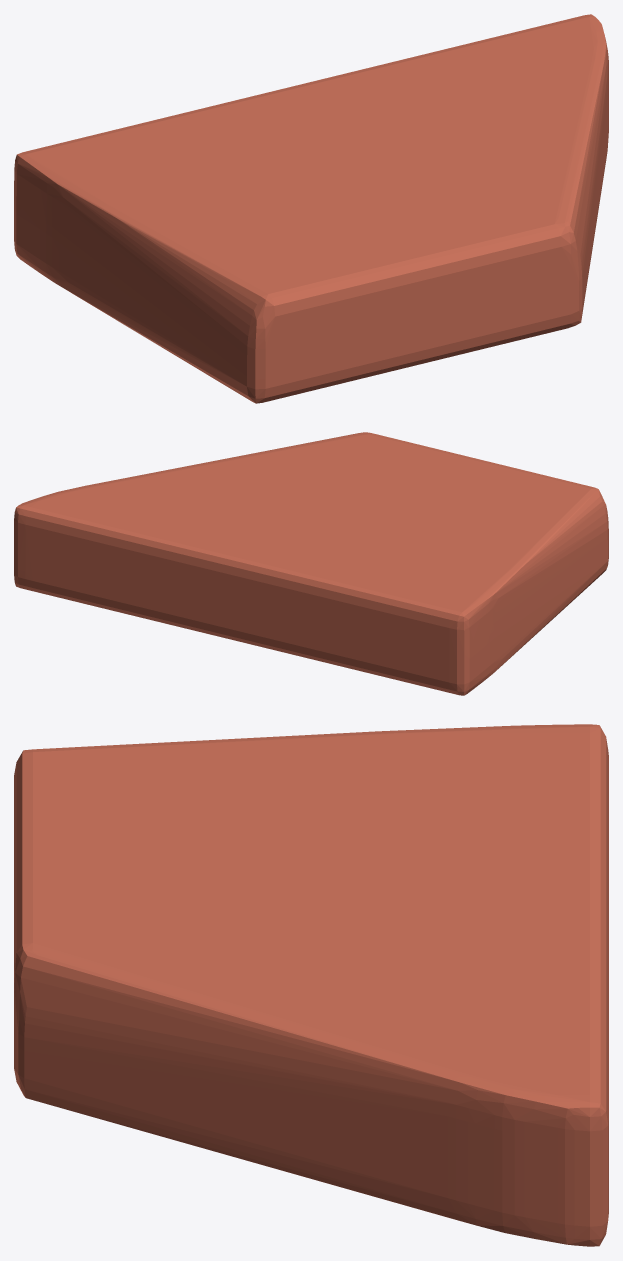
Rendered from right_shoulder_yaw_link_part_9.obj.
3 renders of one model, top to bottom at view 1: azimuth 30°, elevation 25°; view 2: azimuth 150°, elevation 25°; view 3: azimuth 270°, elevation 25°, orthographic. The views are drawn at different scales.
Size of the model in its own units: 0.0976 by 0.0168 by 0.0633.
